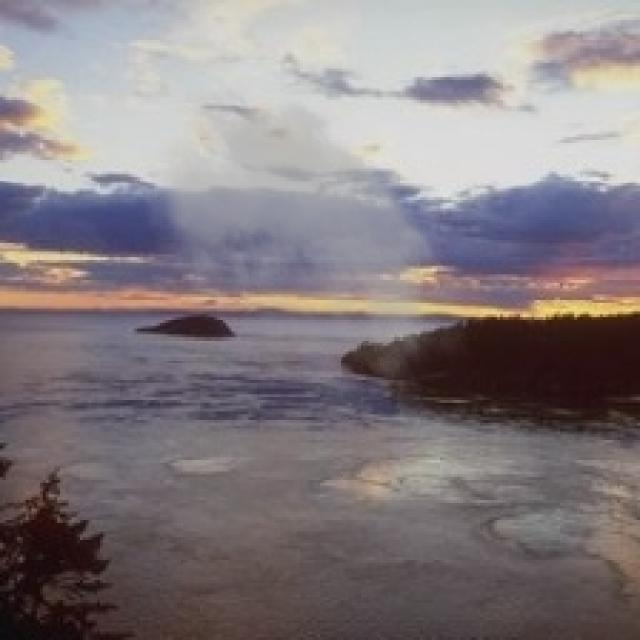smoke: (129, 74, 474, 429)
